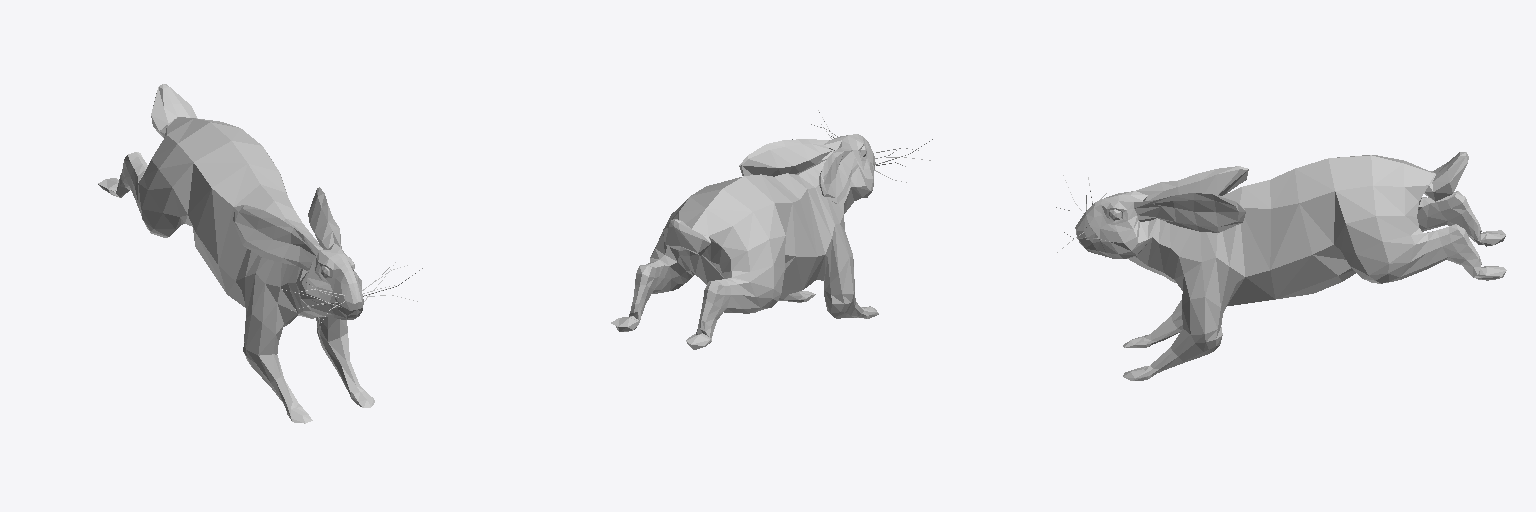
Rendered from rabbit_000010.obj.
The picture shows the model from 3 angles: view 1: azimuth 30°, elevation 25°; view 2: azimuth 150°, elevation 25°; view 3: azimuth 270°, elevation 25°; orthographic projection.
Visible parts, largest first — view 1: Rabbit_Cylinder; view 2: Rabbit_Cylinder; view 3: Rabbit_Cylinder.
Boxes of the visible parts, x1=… form: Rabbit_Cylinder: x1=98, y1=84, x2=422, y2=423; Rabbit_Cylinder: x1=611, y1=110, x2=932, y2=349; Rabbit_Cylinder: x1=1056, y1=152, x2=1506, y2=380.
Size of the model in its own units: 7 by 11.56 by 22.85.